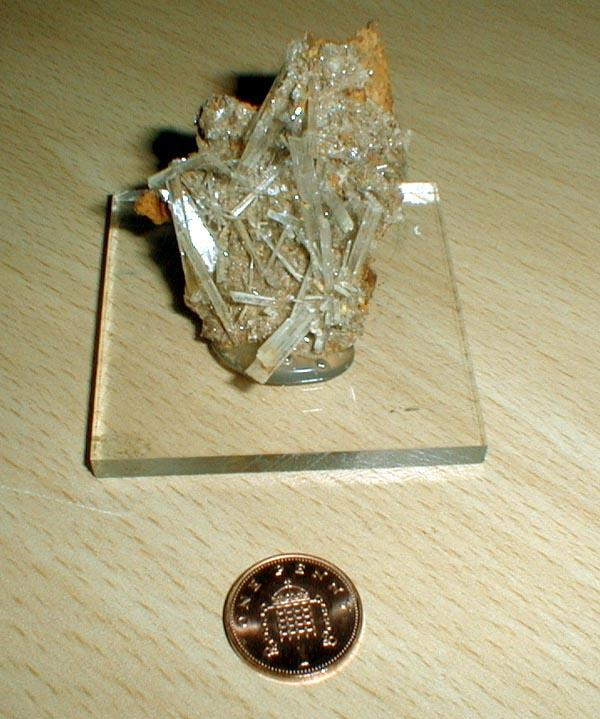gypsum: (167, 70, 406, 382)
